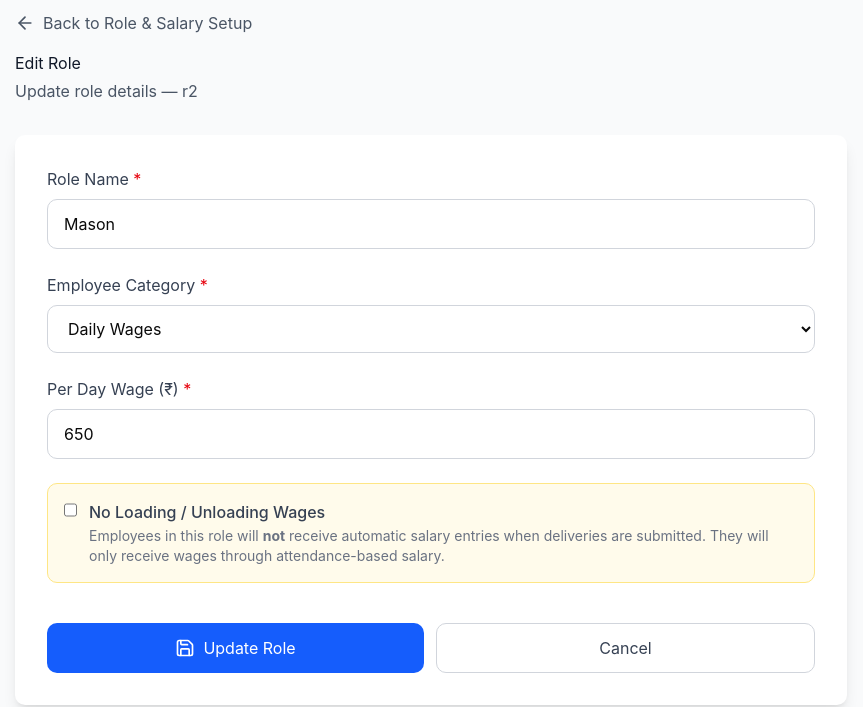
it: EditRoleScreen › validation › only accepts letters and spaces in the name
Replace the text in the field labelled "Role Name *" with "Mas0n!". click: (431, 224)
box: [47, 199, 815, 249]
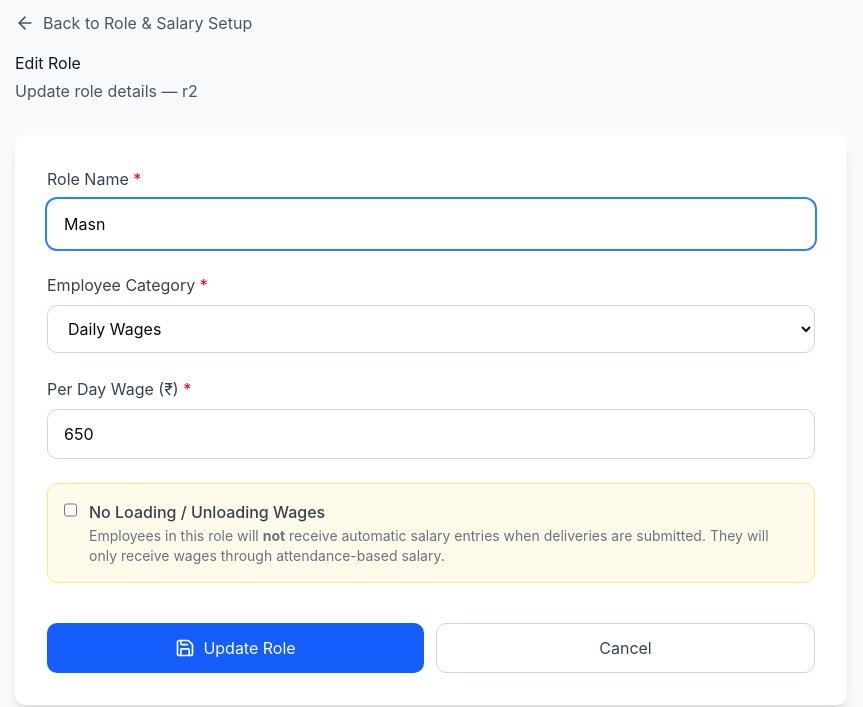
Expected: the field labelled "Role Name *" holds "Masn", [47, 199, 815, 249]
